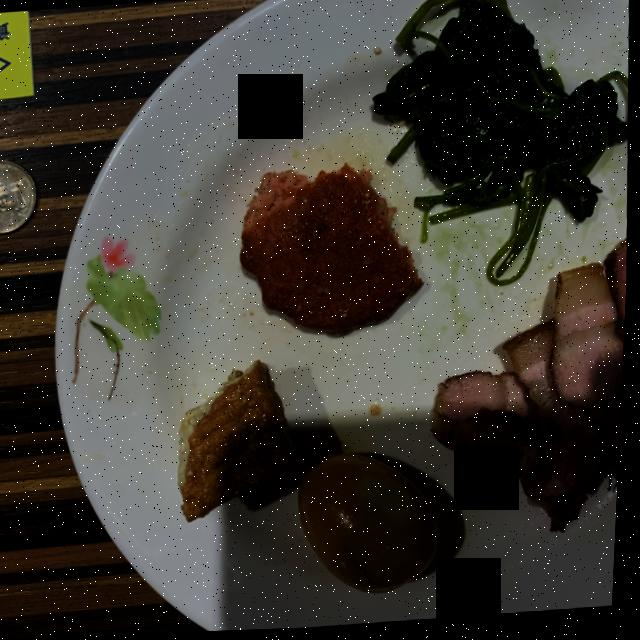Spam: (242, 167, 424, 337)
coin: (0, 160, 39, 233)
egg tofu: (182, 362, 301, 522)
grilled pork: (435, 244, 629, 534)
soy egg: (302, 455, 442, 595)
sweet potato leaves: (375, 0, 629, 288)
